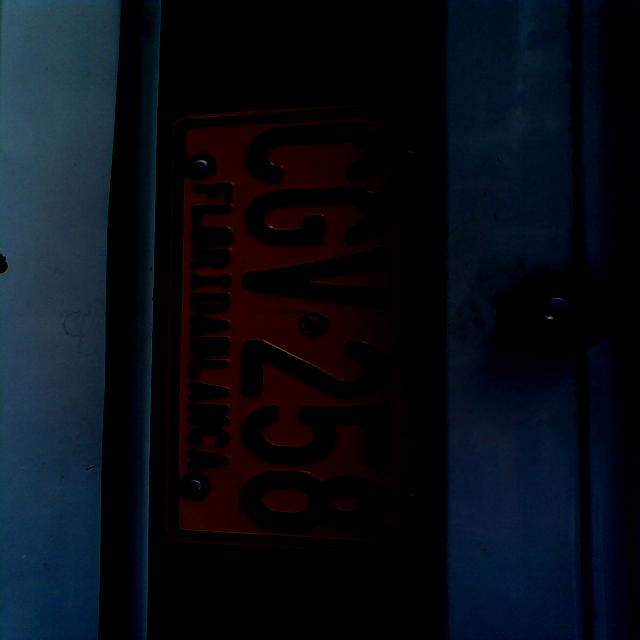placa: (154, 94, 458, 566)
